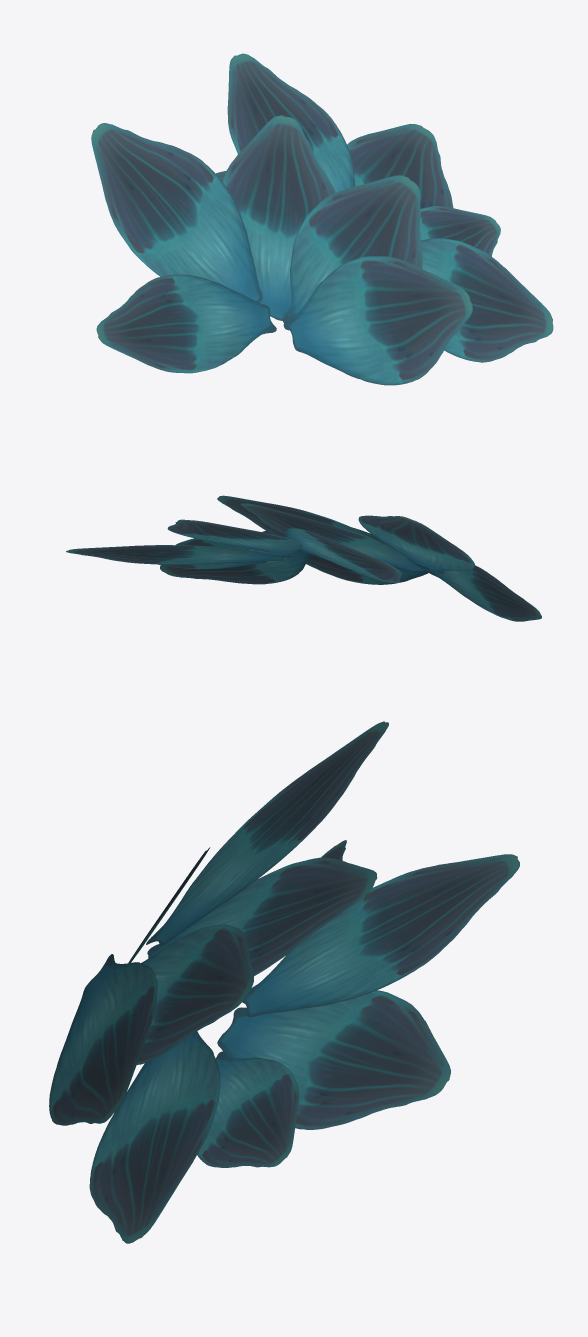
Rendered from mossXenoforestPlantBlue1.fbx.
3 renders of one model, top to bottom at view 1: azimuth 30°, elevation 25°; view 2: azimuth 150°, elevation 25°; view 3: azimuth 270°, elevation 25°, orthographic. The views are drawn at different scales.
Parts seen in each view (by area): view 1: mossXenoforestPlantBlue1; view 2: mossXenoforestPlantBlue1; view 3: mossXenoforestPlantBlue1.
Part boxes in pixels (left/top/right/bottom): mossXenoforestPlantBlue1: left=91, top=53, right=553, bottom=385; mossXenoforestPlantBlue1: left=66, top=495, right=541, bottom=621; mossXenoforestPlantBlue1: left=49, top=721, right=519, bottom=1243.
Bounding box in the file's own units: 0.7538 × 0.4562 × 0.5197.
